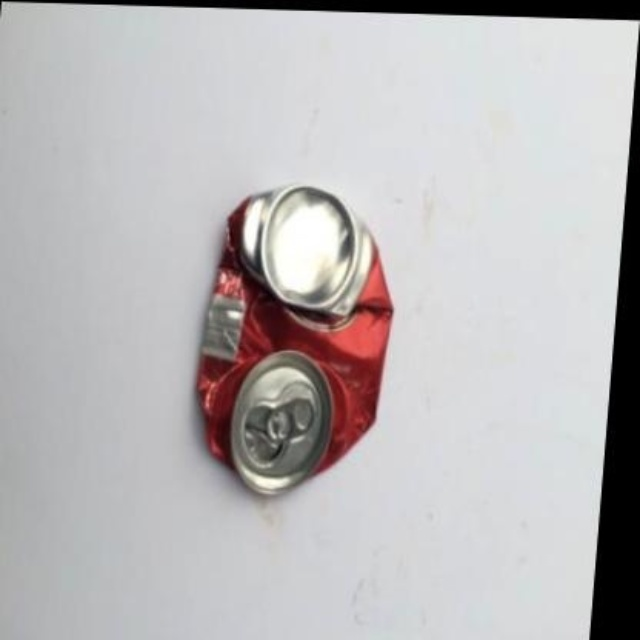trash: (197, 185, 391, 492)
